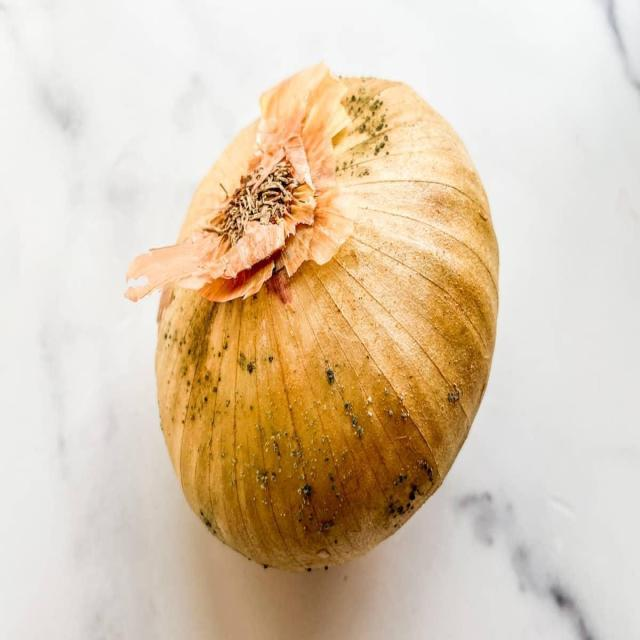Onion: (126, 58, 499, 576)
